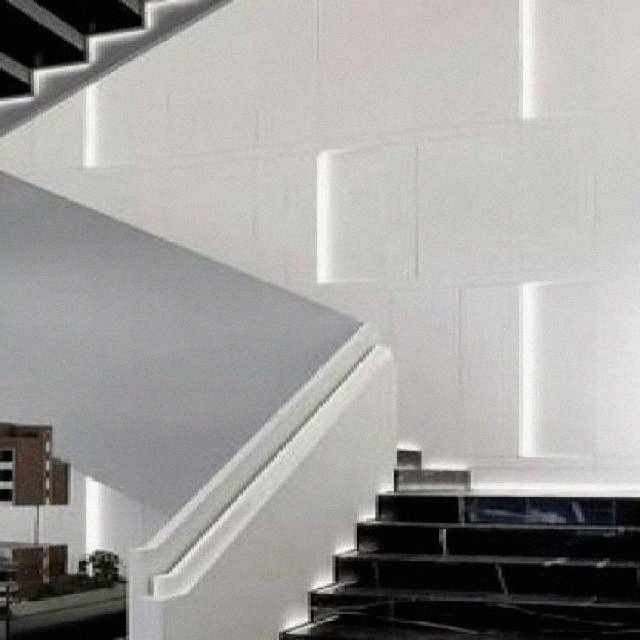stair: (108, 360, 637, 638)
